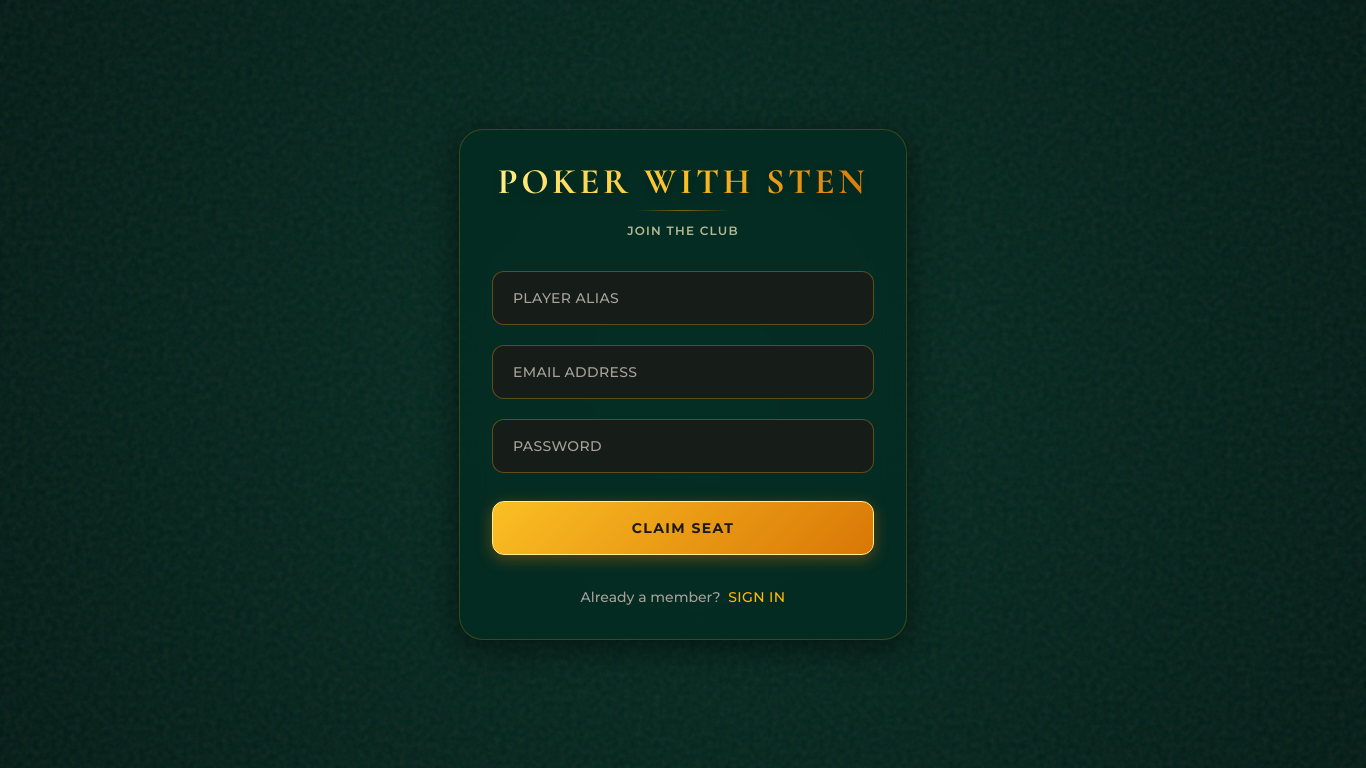
Test case: Register Component › displays specific error message from server
Type "testuser" into the field with placeholder "PLAYER ALIAS".
click(683, 298); type("testuser")  # box [492,270,874,324]
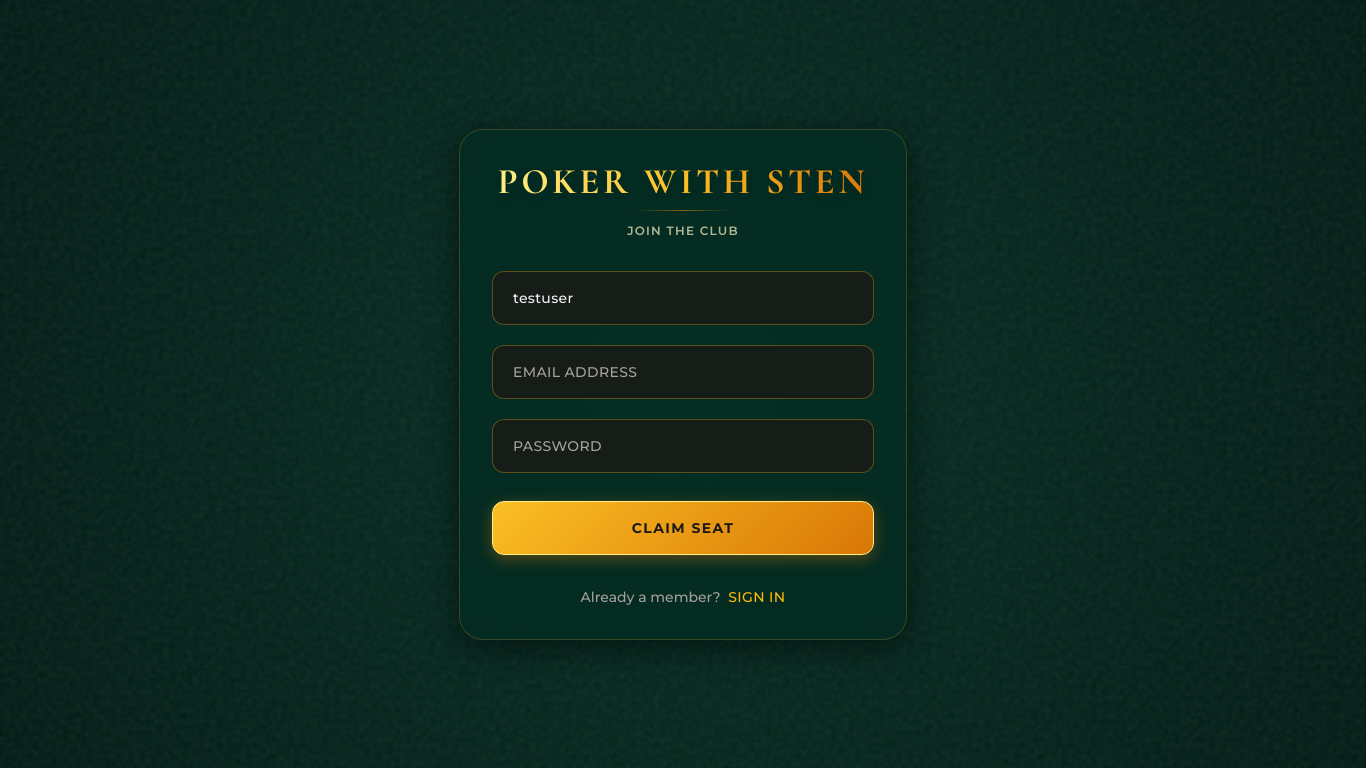
Type "test@example.com" into the field with placeholder "EMAIL ADDRESS".
click(683, 372); type("test@example.com")  # box [492,344,874,398]
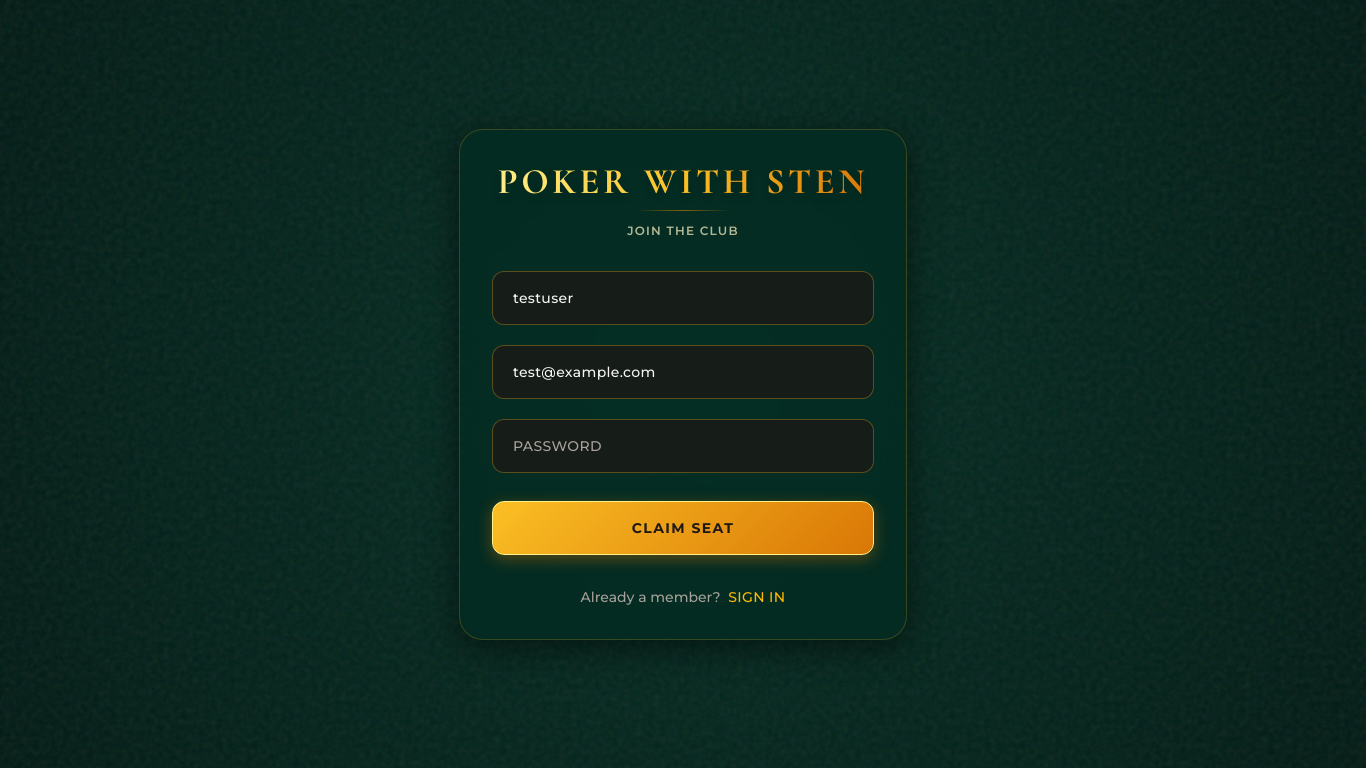
Type "password123" into the password field with placeholder "PASSWORD".
click(683, 446); type("password123")  # box [492,418,874,472]
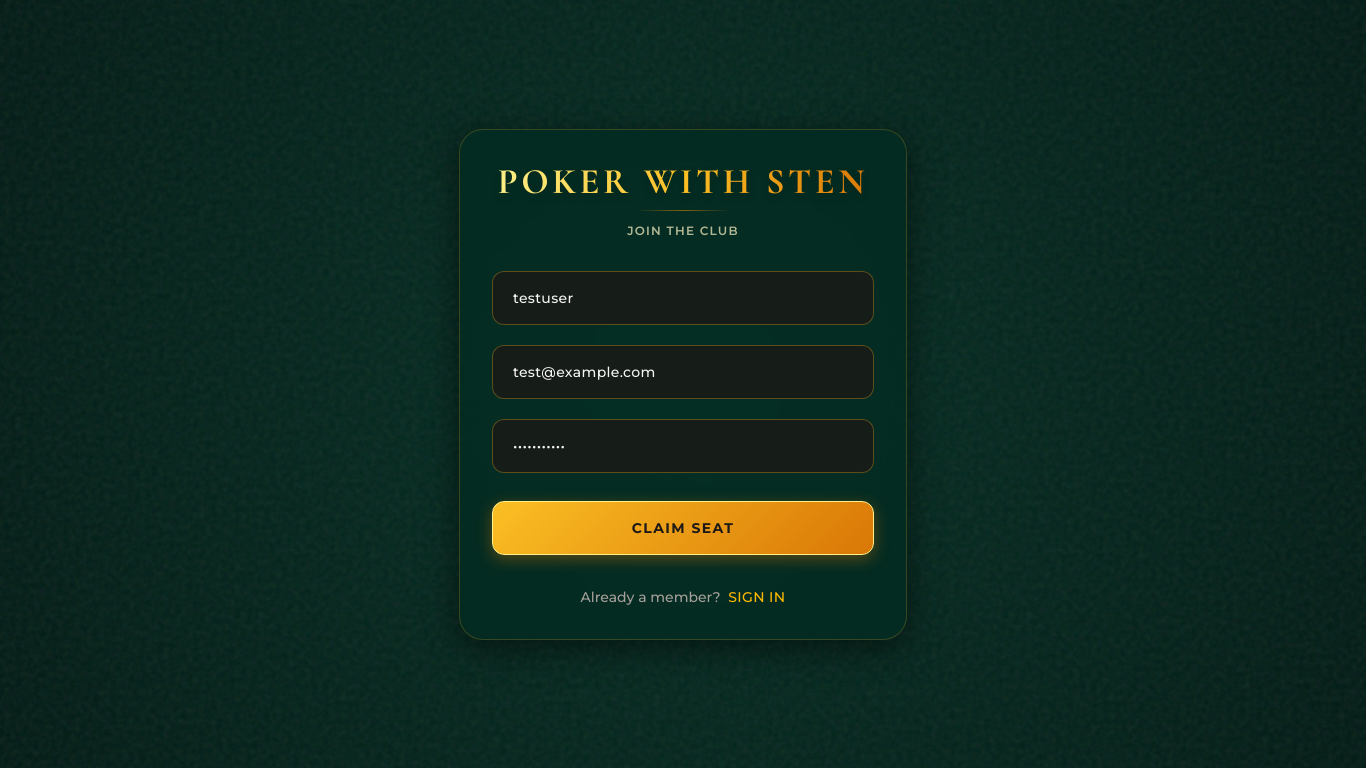
Click the button "Claim Seat".
click(683, 528)  # box [492,500,874,554]
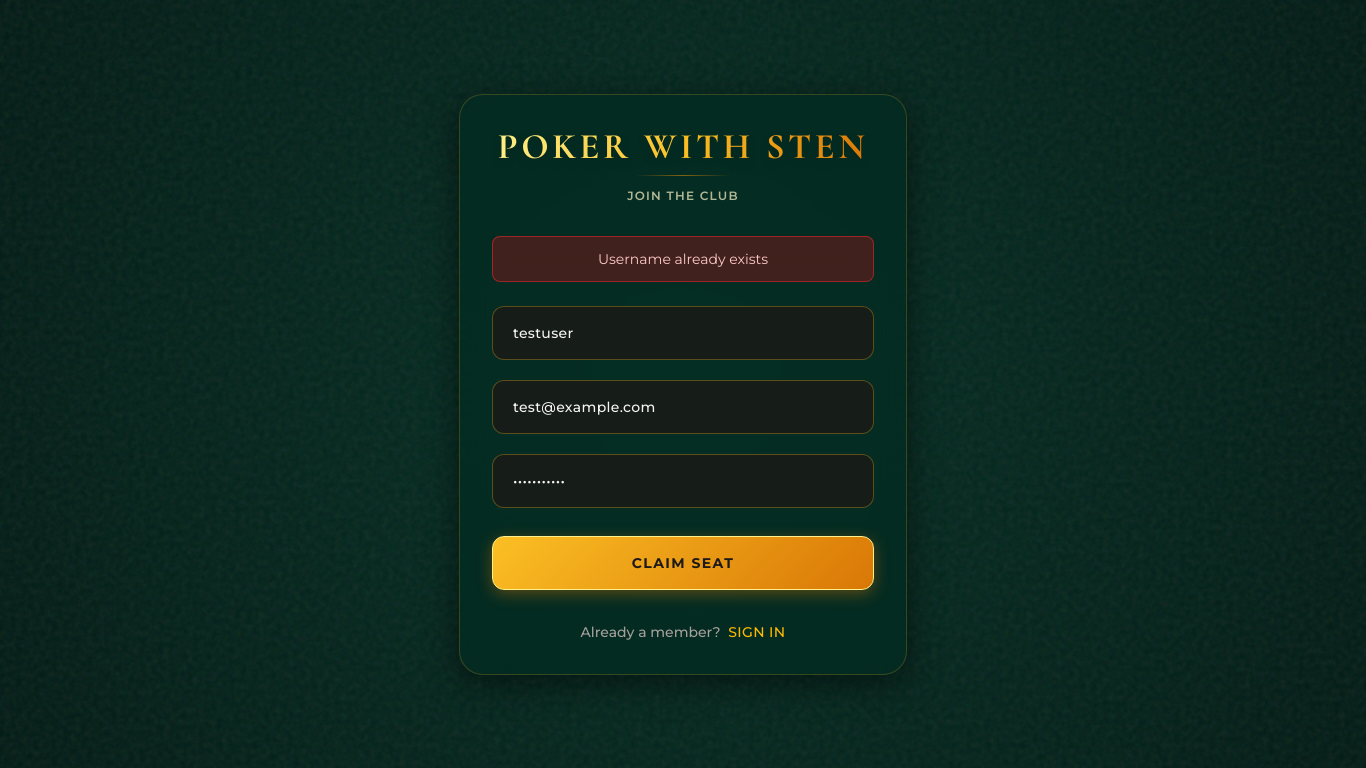
Expected: the button "Claim Seat" is enabled, [492,536,874,590]
Expected: the text "Username already exists" is shown, [492,236,874,282]
